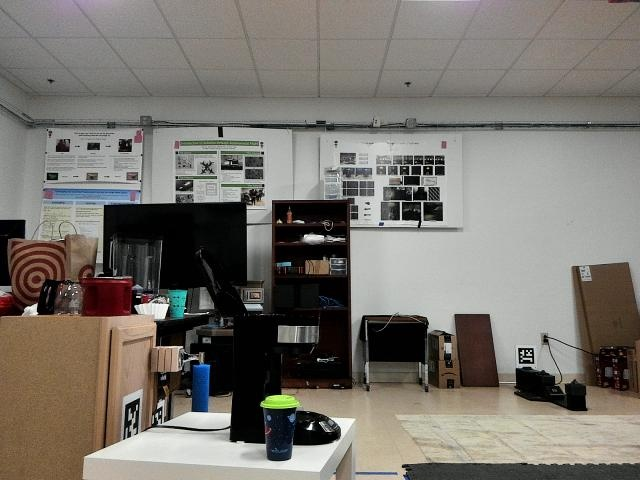coffee_cup: (167, 288, 188, 320)
noodle_handle: (188, 356, 216, 414)
useless_cup: (258, 391, 300, 459)
